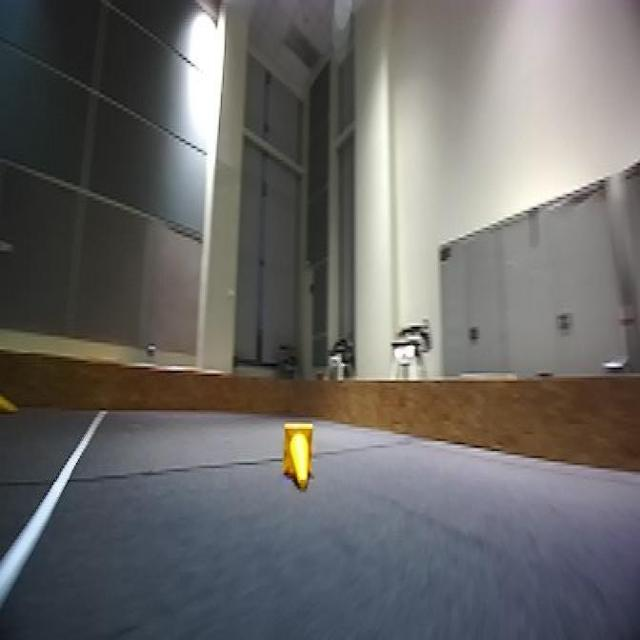frc_cone: (281, 418, 316, 488), (0, 385, 19, 415)
